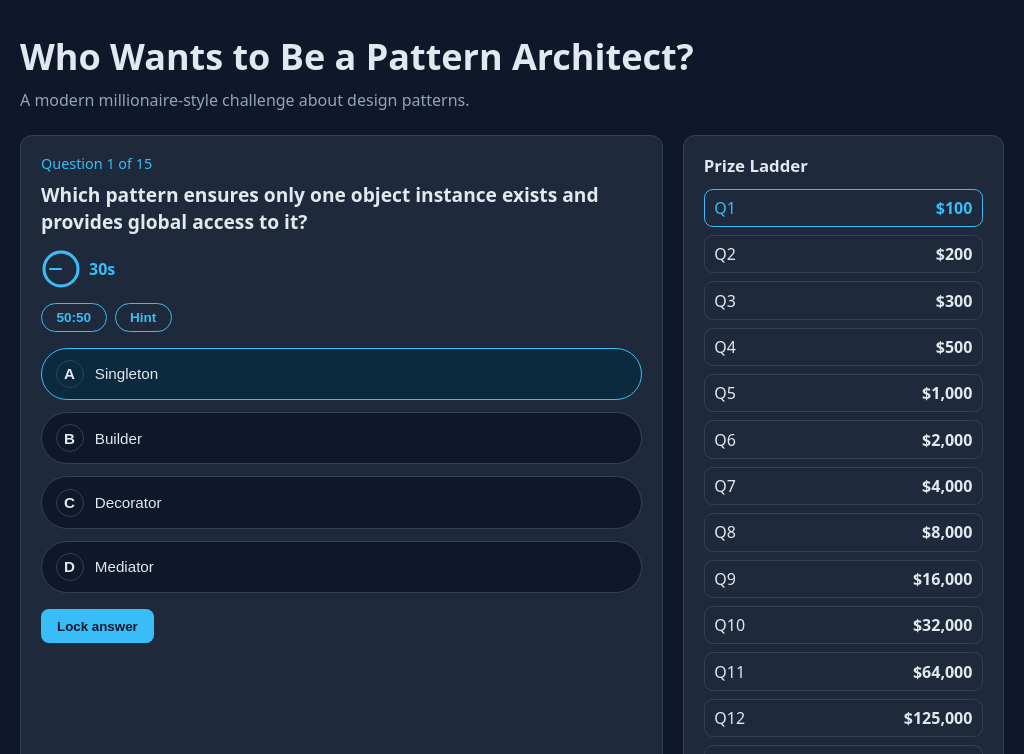
Test: QuizPage › keeps previously won money when losing after a correct answer
The image size is (1024, 754).
Click the button "Lock answer".
click(97, 626)  # box [41, 609, 154, 643]
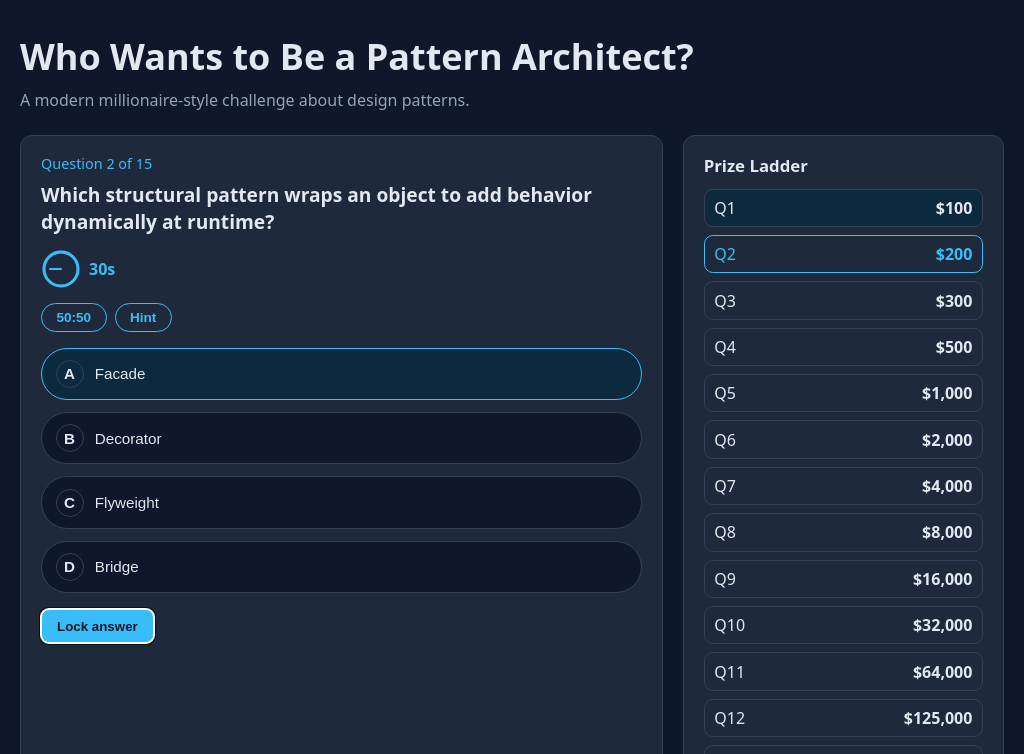
Click the button "D Bridge".
click(117, 567)  # box [41, 541, 642, 593]
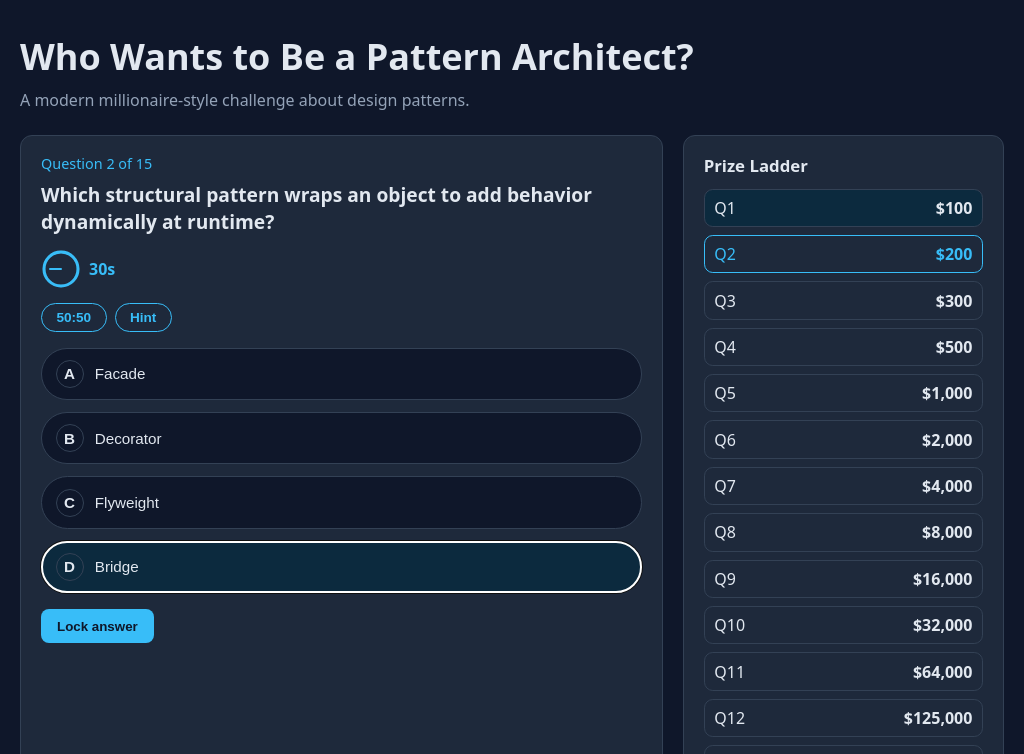
Click the button "Lock answer".
click(97, 626)  # box [41, 609, 154, 643]
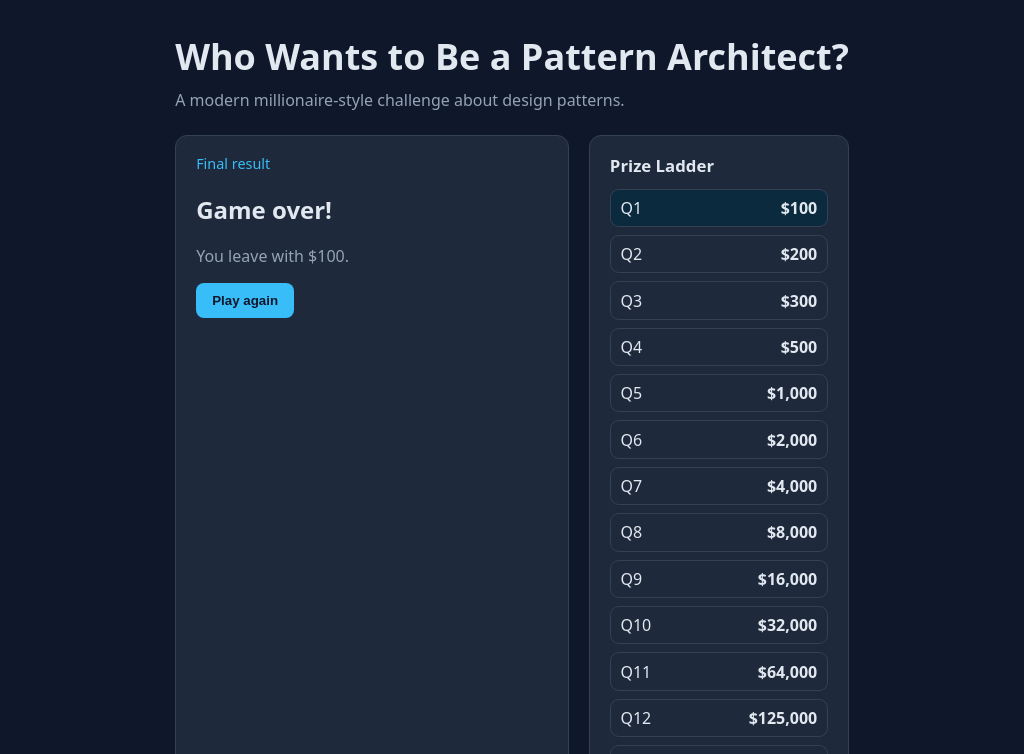
Expected: the text "You leave with $100." is shown, [196, 245, 349, 267]
